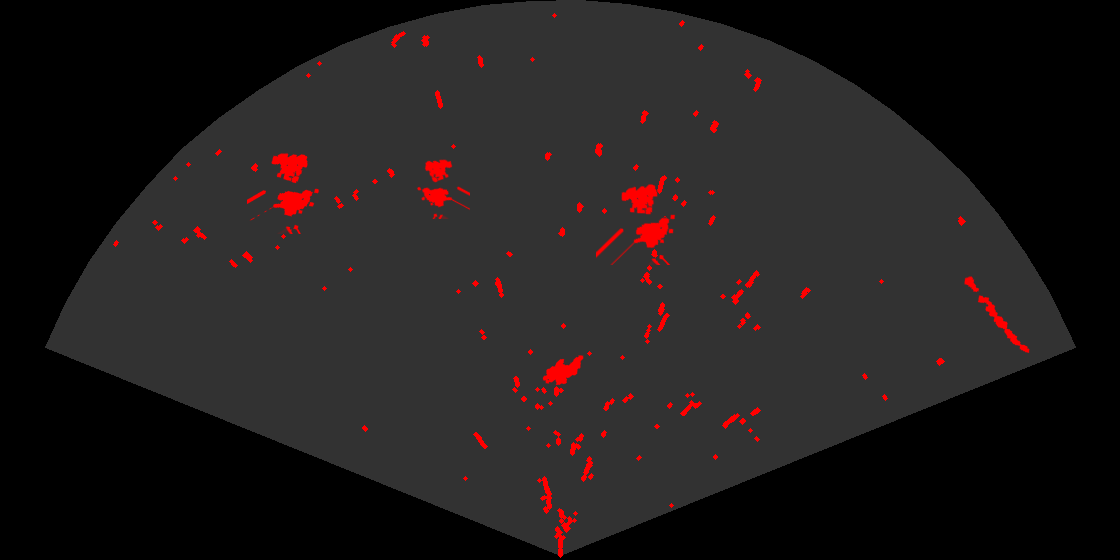AUV: (541, 354, 585, 387)
cage: (596, 183, 677, 265), (247, 151, 321, 234), (415, 158, 470, 219)
chain: (963, 275, 1031, 355)
